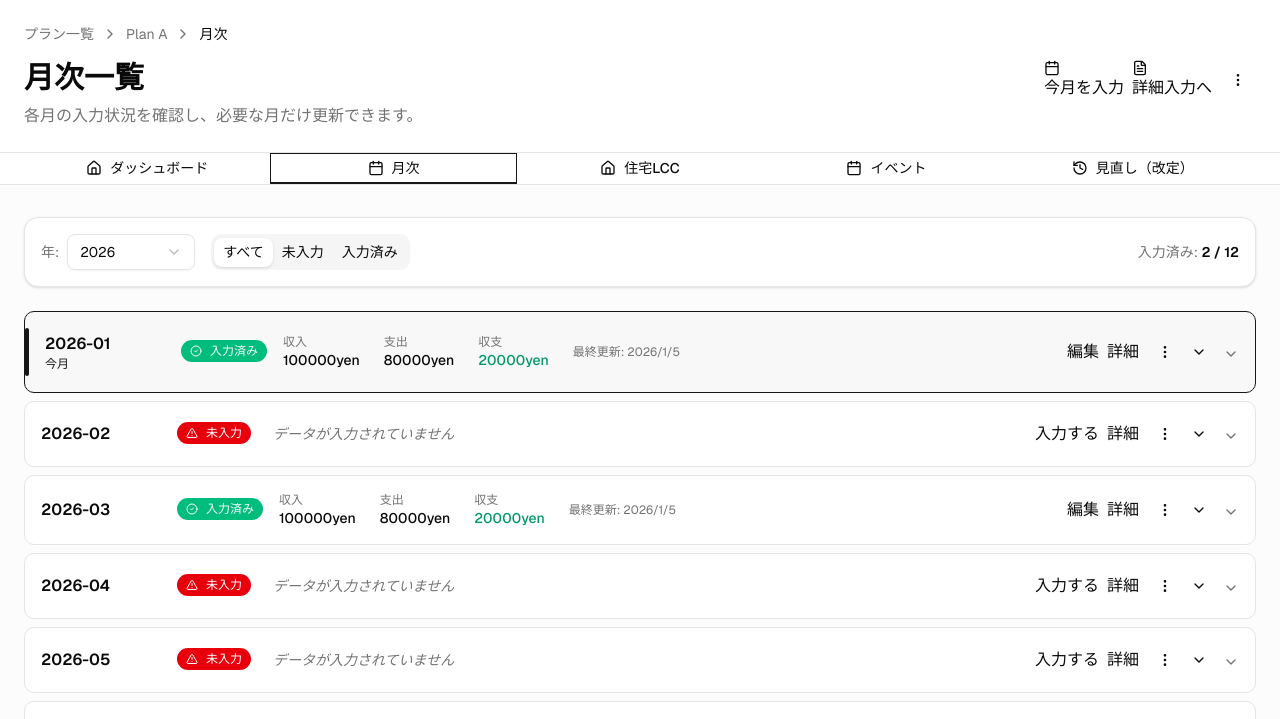
MonthlyListPage › filters entered months and shows edit actions
Check: the link "Plan A" is shown, box [126,24,168,44]
Click the tab "入力済み": (370, 252) [333,238,407,266]
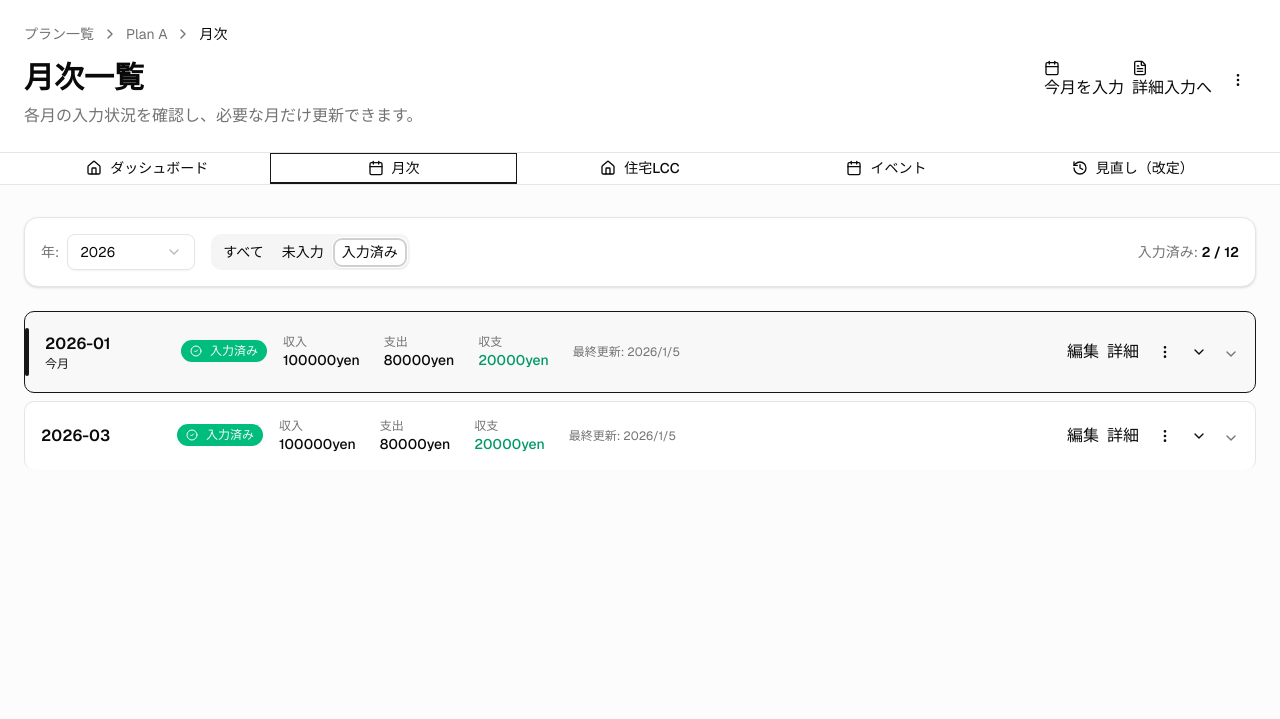
Check: the link "編集" in the row of "2026-01" is shown, box [1067,340,1099,364]
Check: no links "入力する" are shown
